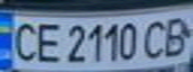0: (118, 19, 142, 61)
1: (84, 20, 106, 63), (103, 19, 124, 63)
2: (63, 20, 87, 64)
B: (157, 12, 193, 59)
C: (3, 19, 42, 63), (139, 16, 172, 61)
E: (30, 19, 63, 64)
